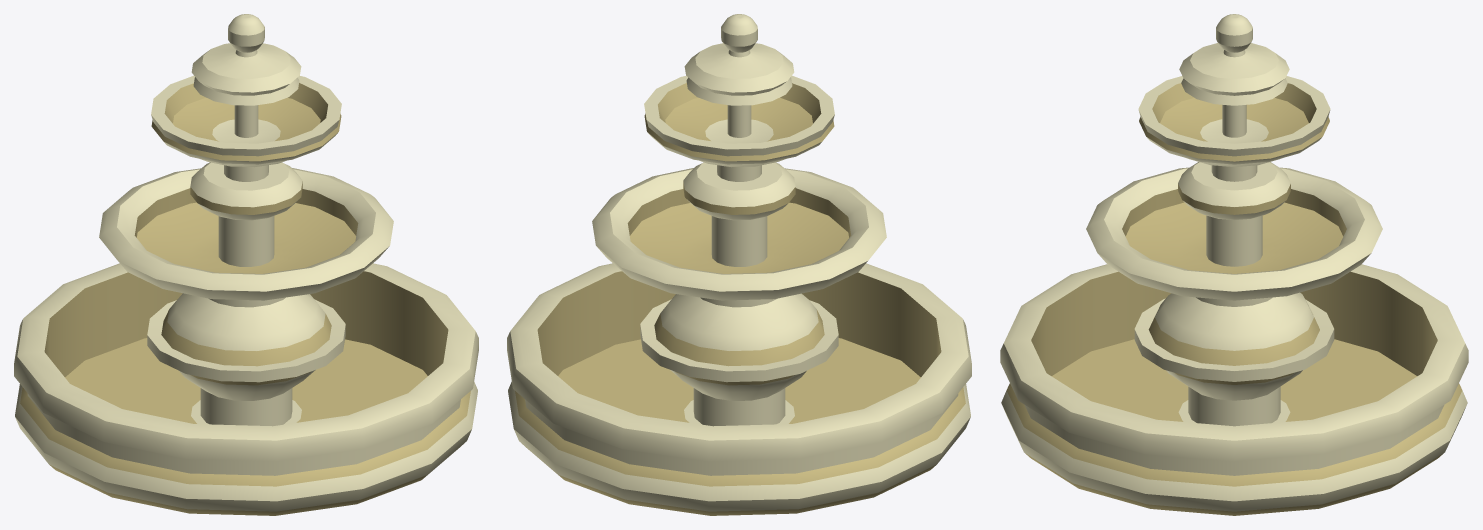
Rendered from fuente.fbx.
The picture shows the model from 3 angles, left to right: view 1: azimuth 30°, elevation 25°; view 2: azimuth 150°, elevation 25°; view 3: azimuth 270°, elevation 25°; orthographic projection.
Parts seen in each view (by area): view 1: fuente; view 2: fuente; view 3: fuente.
Boxes of the visible parts, <box> form: fuente: <box>14,14,478,515</box>; fuente: <box>507,14,971,515</box>; fuente: <box>1000,14,1468,515</box>.
Size of the model in its own units: 421 by 403 by 421.
